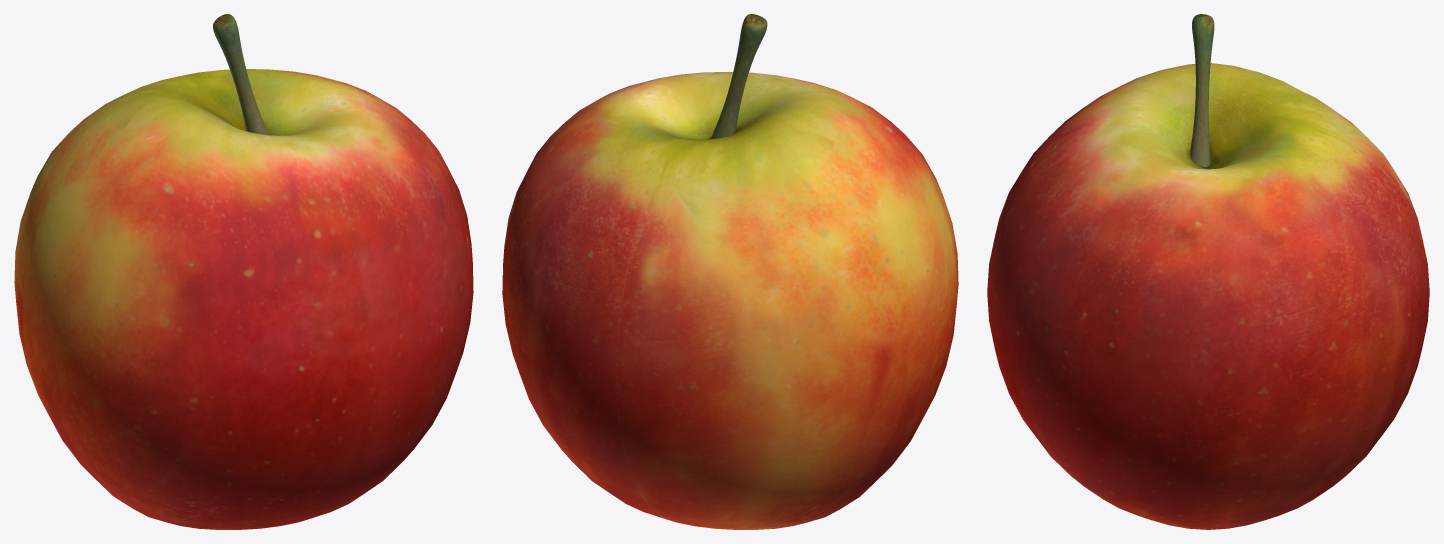
File: Apple.fbx
3 renders of one model, left to right at view 1: azimuth 30°, elevation 25°; view 2: azimuth 150°, elevation 25°; view 3: azimuth 270°, elevation 25°, orthographic. The views are drawn at different scales.
Parts seen in each view (by area): view 1: apple; view 2: apple; view 3: apple.
Boxes of the visible parts, x1,y1,x2,y2 form: apple: (14, 14, 473, 529); apple: (502, 14, 958, 529); apple: (987, 14, 1429, 529).
Size of the model in its own units: 0.111 by 0.1298 by 0.1105.
